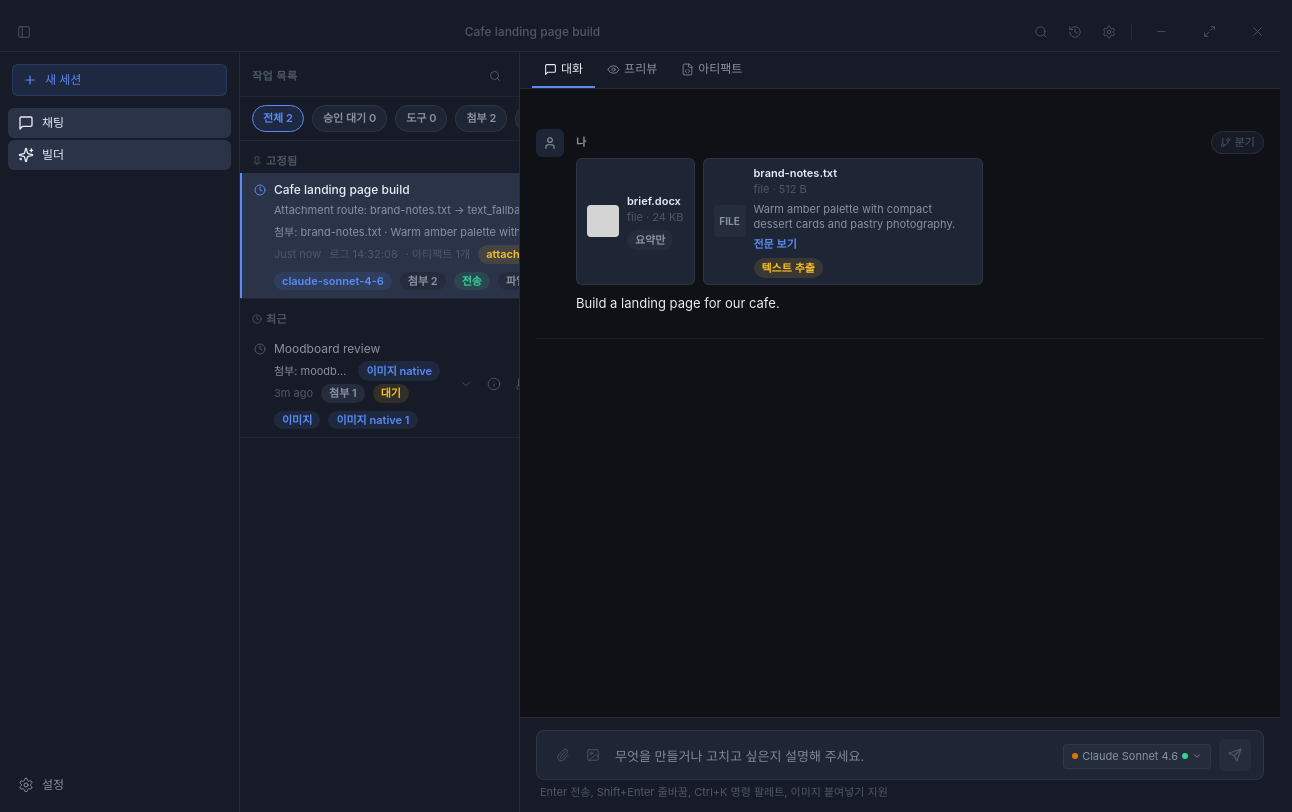
Test case: App shell › shows latest attachment provenance in the work list
Expected: the button that starts with "Moodboard review" is shown, 240,332 -> 452,437
Expected: the text "첨부 2" is shown, 400,272 -> 446,290
What coordinates should you click on to do the following:
click the button "첨부 2"
I would click on:
 (481, 118)
Its box is 455,105 -> 507,132.
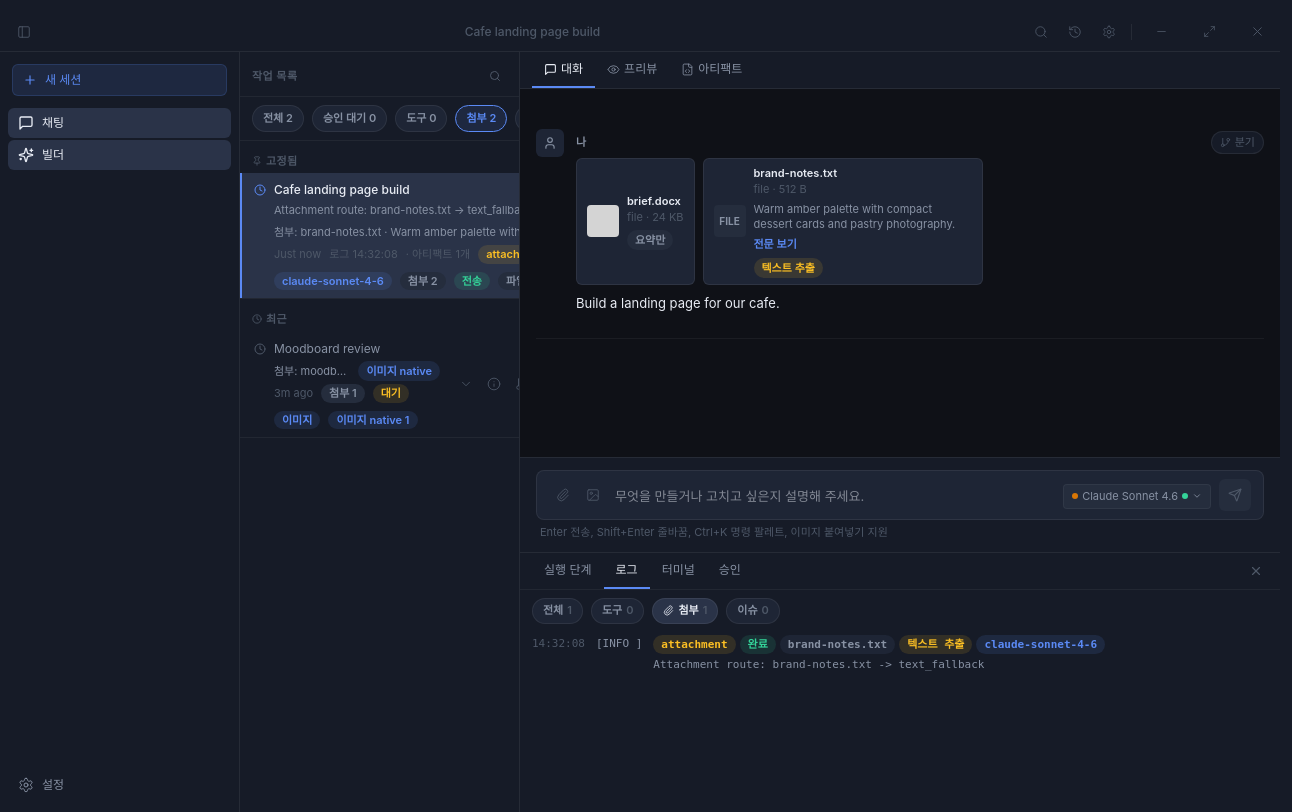
Result: the element that starts with "실행 단계" is shown at 520,552 -> 1280,811
Result: the text "Attachment route: brand-notes.txt -> text_fallback" below "완료" is shown at 653,658 -> 984,671
